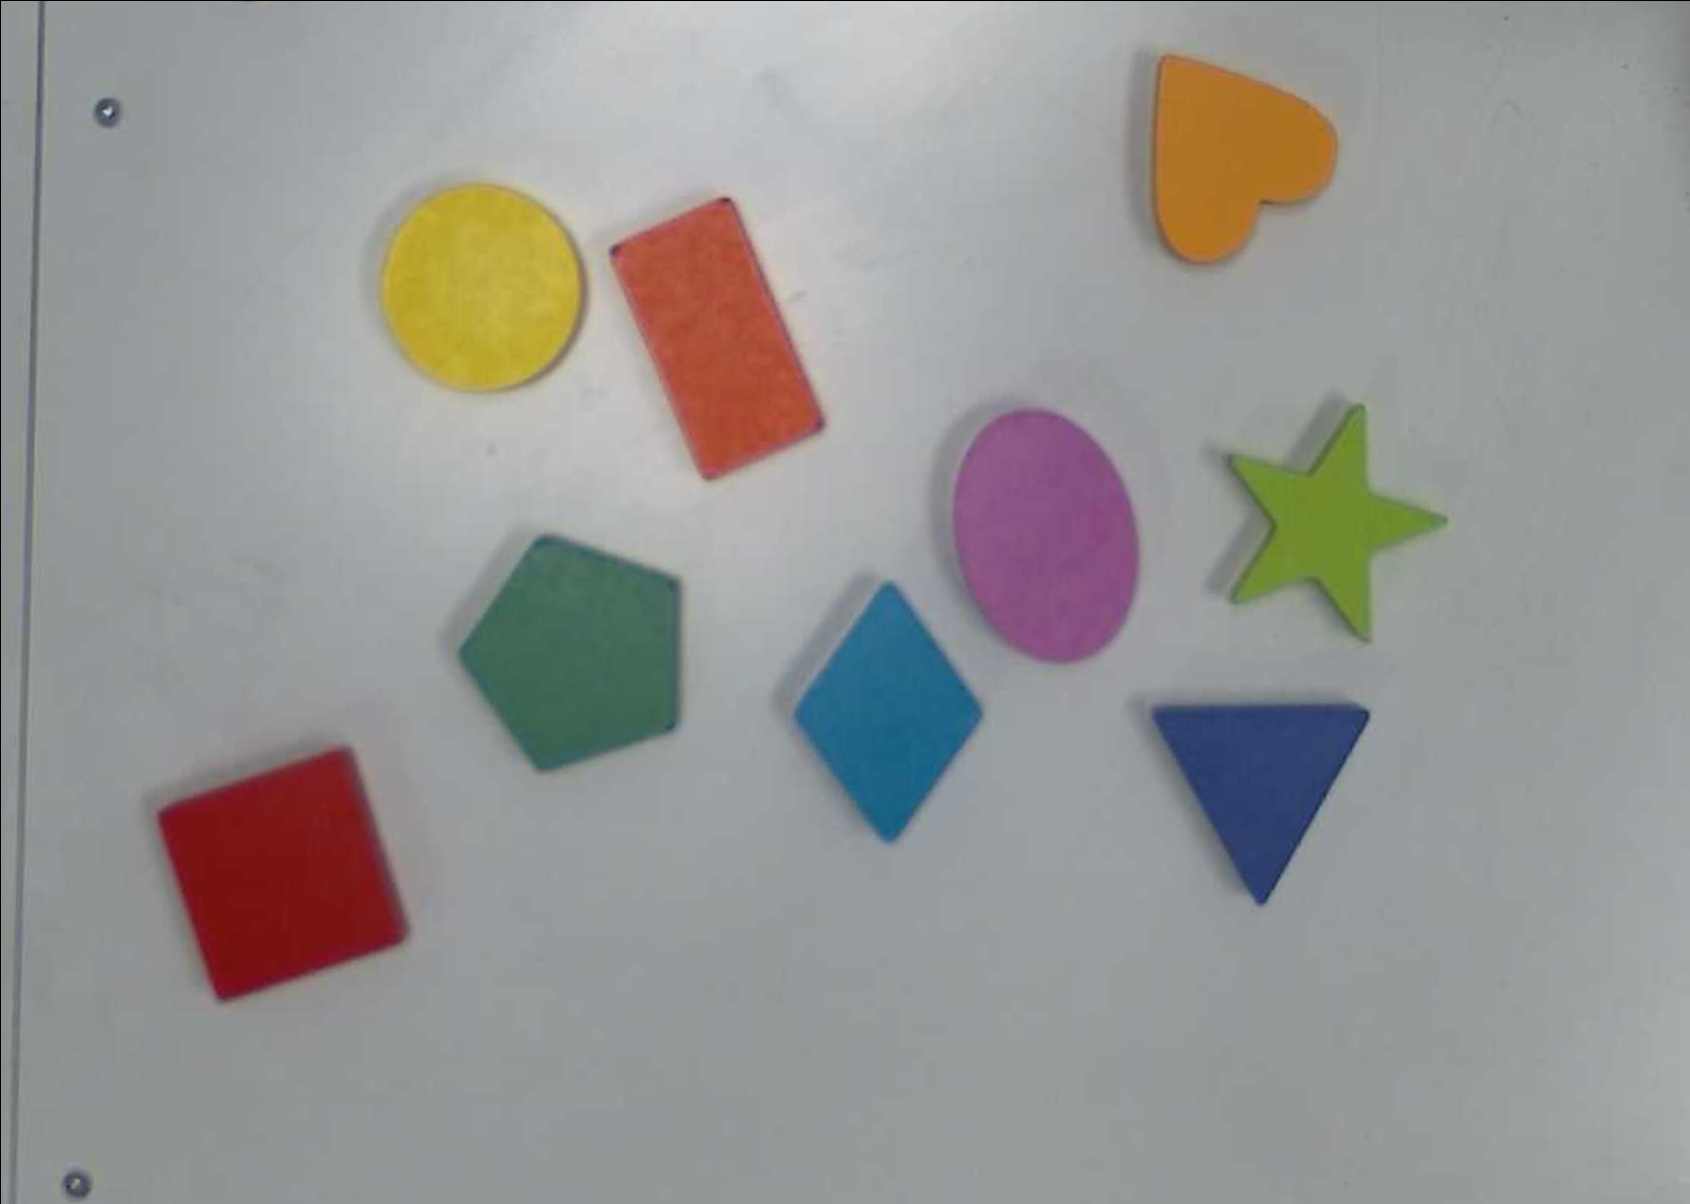Circle: (379, 173, 589, 394)
Ellipse: (951, 409, 1140, 663)
Heart: (1149, 53, 1343, 265)
Parallelogram: (787, 575, 989, 851)
Pentagon: (453, 529, 684, 774)
Rectangle: (605, 197, 824, 483)
Square: (149, 735, 412, 1015)
Star: (1208, 397, 1448, 649)
Triangle: (1148, 701, 1369, 917)
